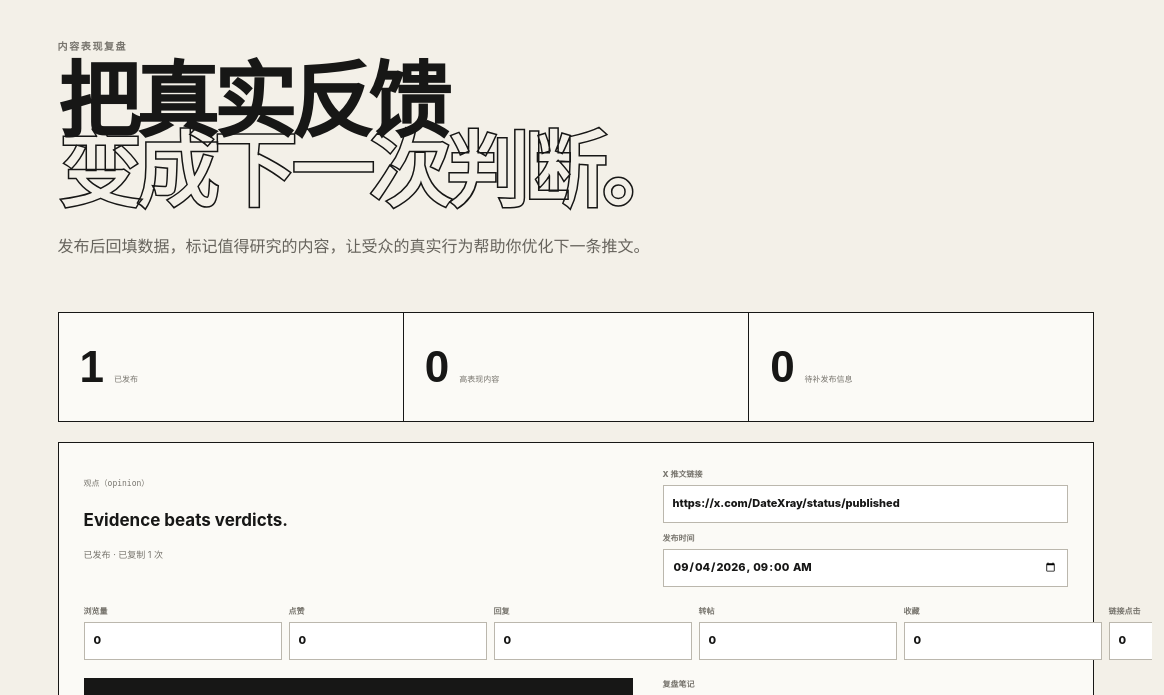
Test: operations workspaces › updates metrics and marks a published post as a top performer
Replace the text in the number field labelled "浏览量" with "1000" at (183, 641), box [84,622,282,660]
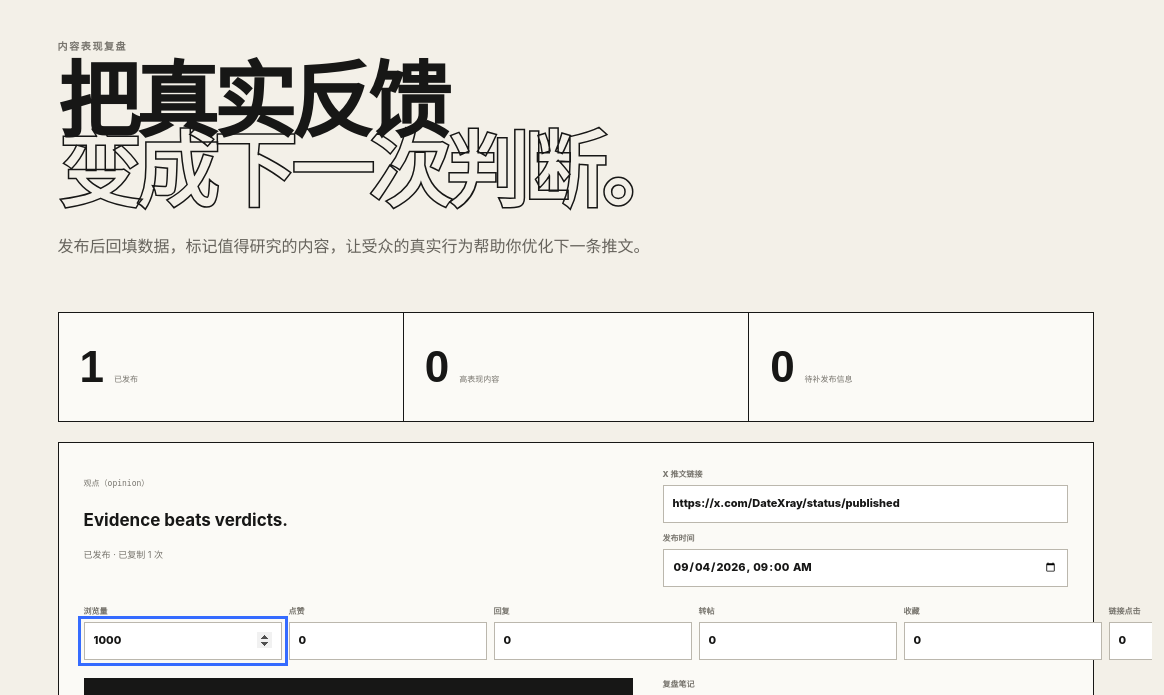
Replace the text in the number field labelled "点赞" with "20" at (388, 641), box [289,622,487,660]
(page scrolled)
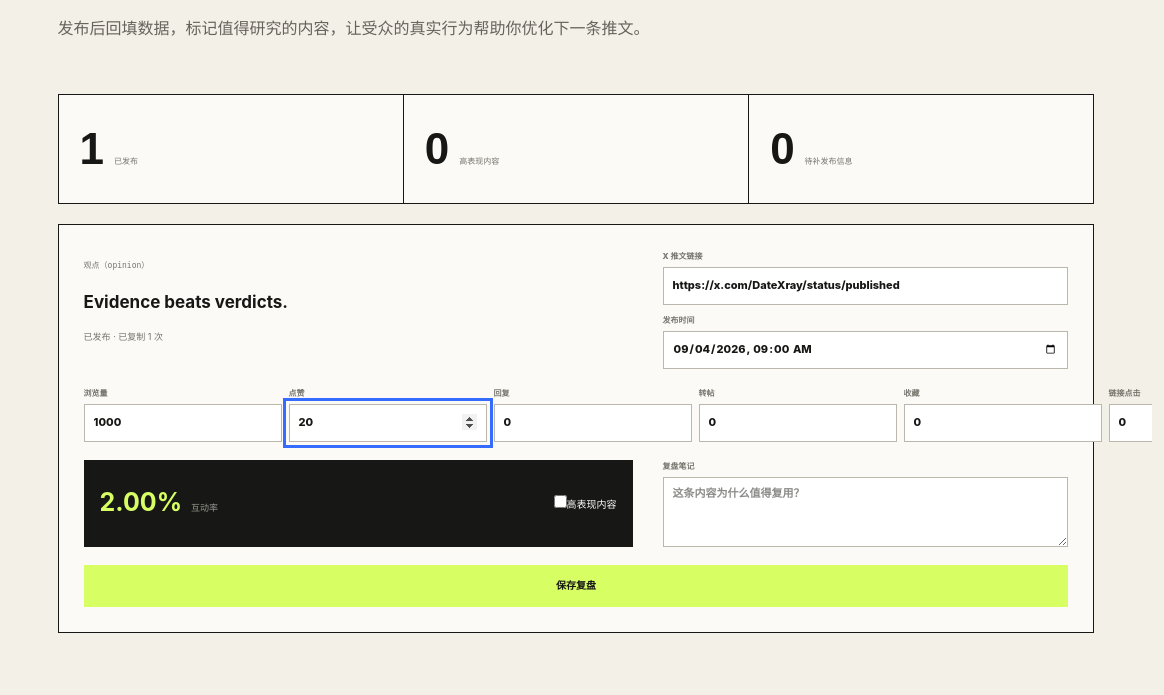
Click the checkbox labelled "高表现内容".
click(560, 501)  # box [554,495,567,508]
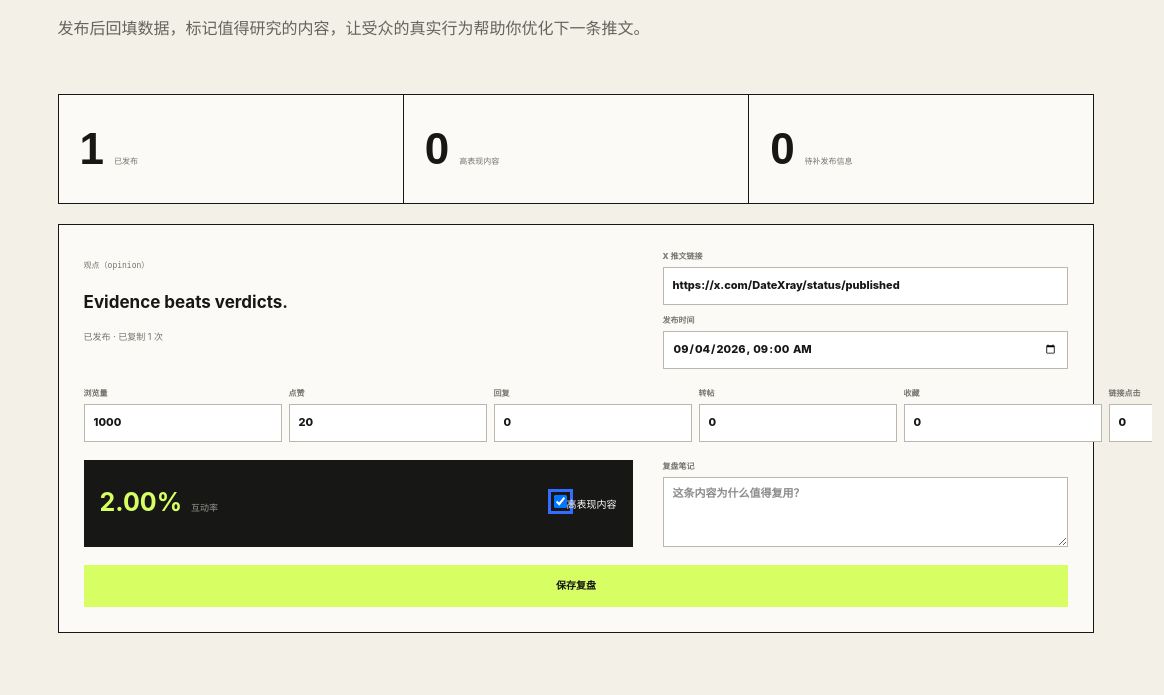
Click the button "保存复盘".
click(576, 586)  # box [84,565,1068,607]
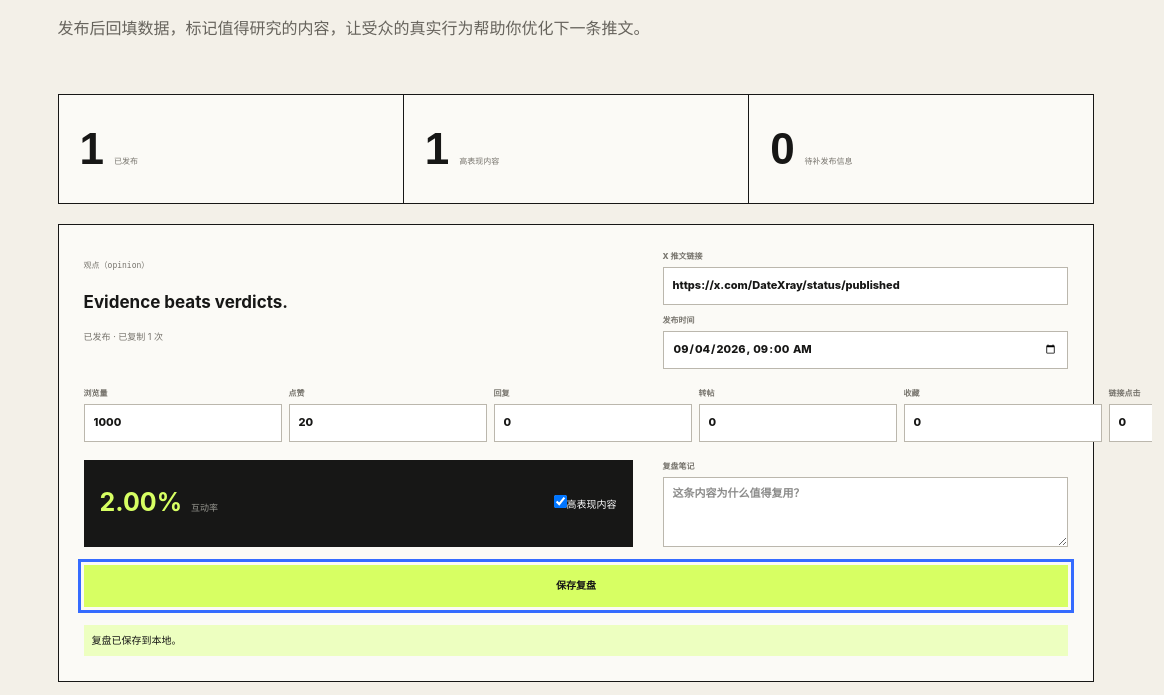
Now the text "复盘已保存到本地。" is shown, box [84,625,1068,656]
